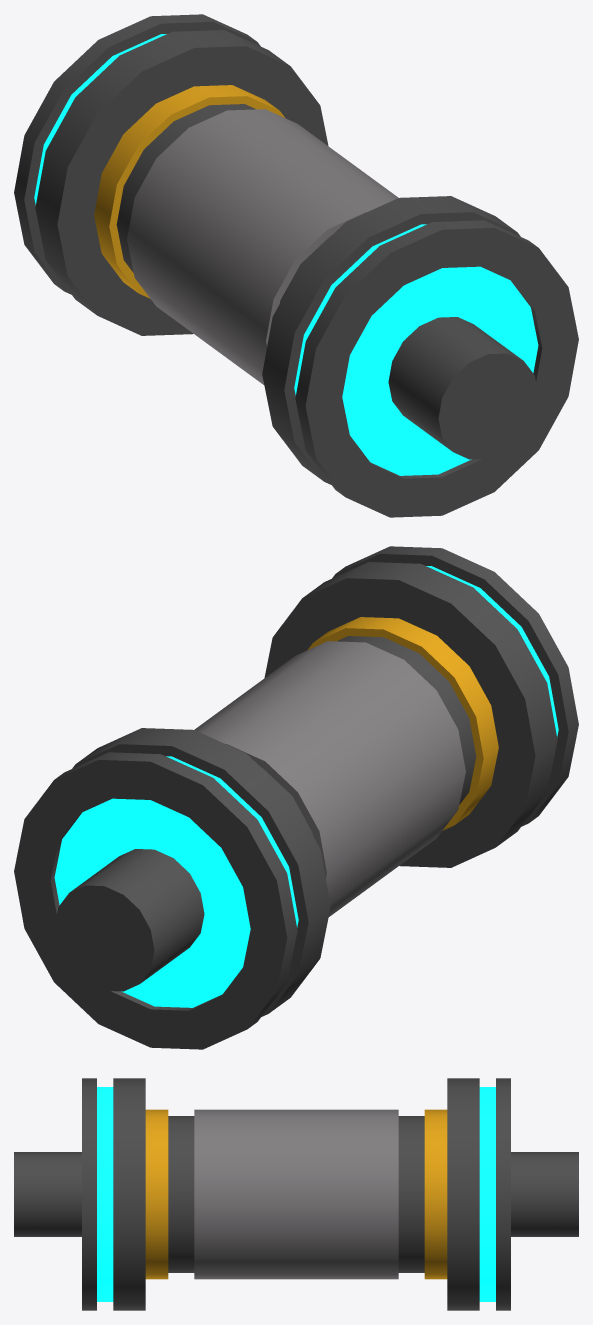
File: Component_Generic.fbx
3 views of the same model, one above another, from view 1: azimuth 30°, elevation 25°; view 2: azimuth 150°, elevation 25°; view 3: azimuth 270°, elevation 25° (orthographic). The views are drawn at different scales.
Visible parts, largest first — view 1: ComponentGeneric; view 2: ComponentGeneric; view 3: ComponentGeneric.
Boxes of the visible parts, bbox=[...] form: ComponentGeneric: bbox=[14, 14, 578, 517]; ComponentGeneric: bbox=[14, 546, 578, 1049]; ComponentGeneric: bbox=[14, 1078, 578, 1310].
Bounding box in the file's own units: 123 × 123 × 300.
